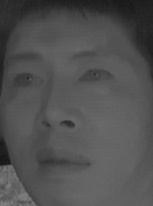eye: (73, 66, 118, 90), (9, 70, 45, 90)
mouth: (31, 142, 93, 179)
